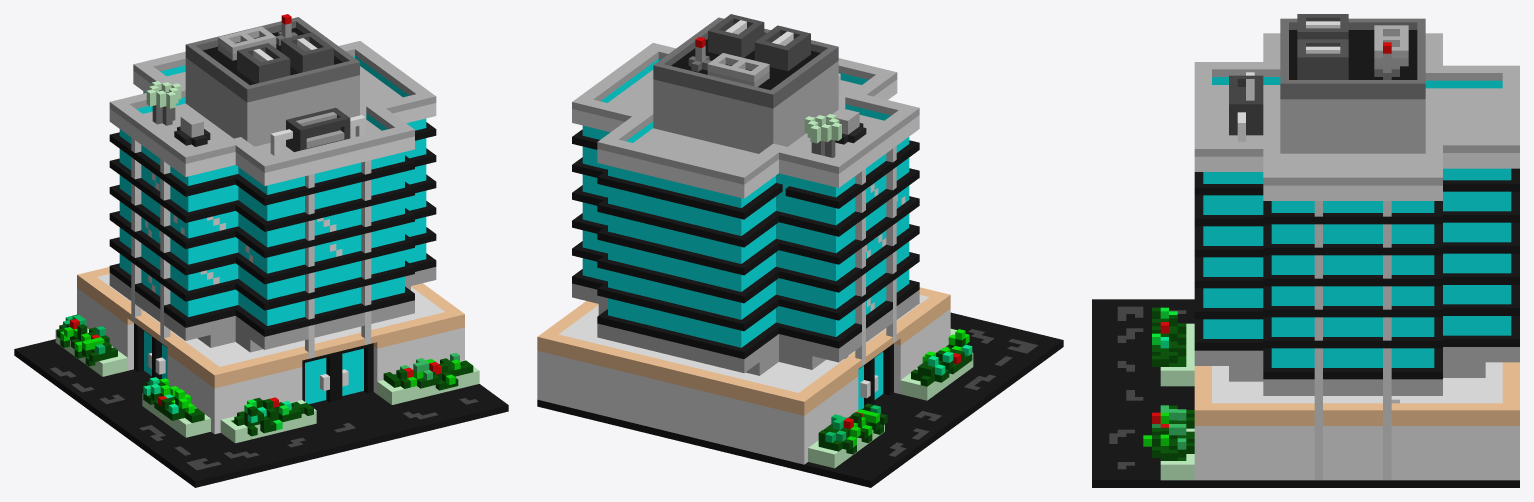
The model's file is OfficeTier2.obj.
3 renders of one model, left to right at view 1: azimuth 30°, elevation 25°; view 2: azimuth 150°, elevation 25°; view 3: azimuth 270°, elevation 25°, orthographic. The views are drawn at different scales.
Size of the model in its own units: 5 by 5 by 5.
